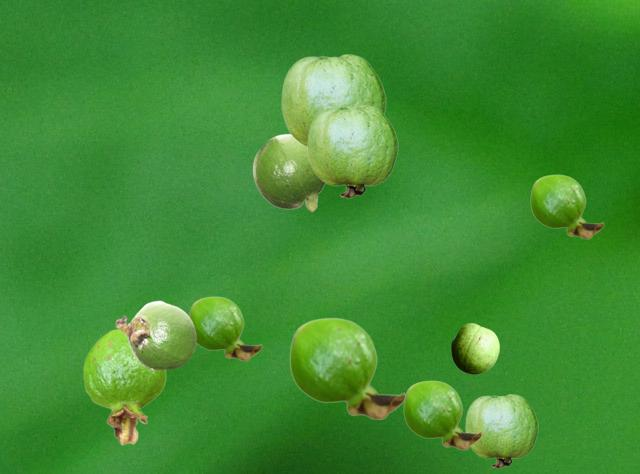guava: (289, 317, 405, 419), (281, 54, 385, 147), (83, 329, 165, 444), (307, 105, 397, 197), (252, 133, 325, 211), (115, 300, 196, 369), (403, 380, 481, 449), (465, 394, 537, 467), (530, 174, 603, 238), (189, 296, 261, 360), (451, 323, 498, 373)
